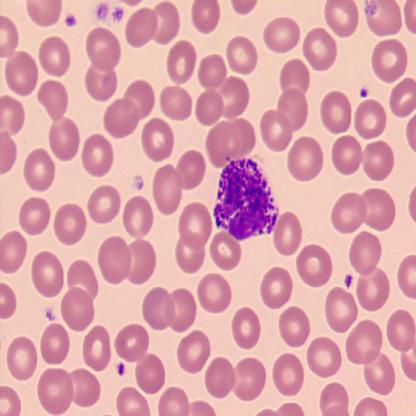Basophil: (212, 156, 280, 243)
